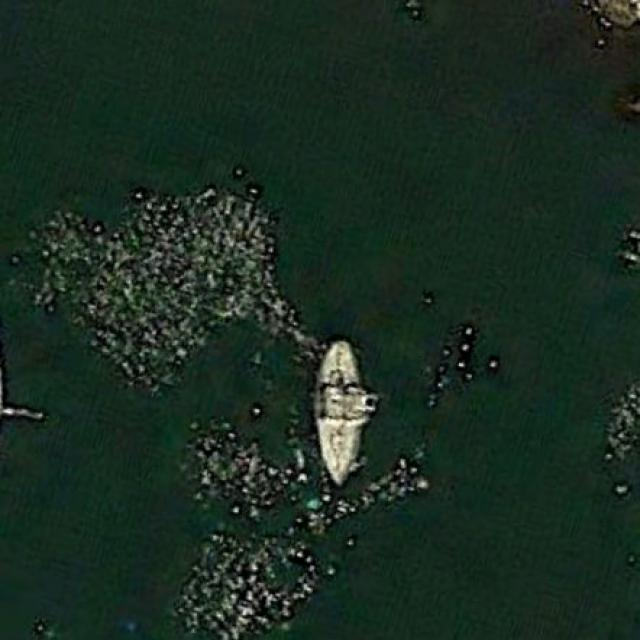boat: (307, 337, 376, 488)
